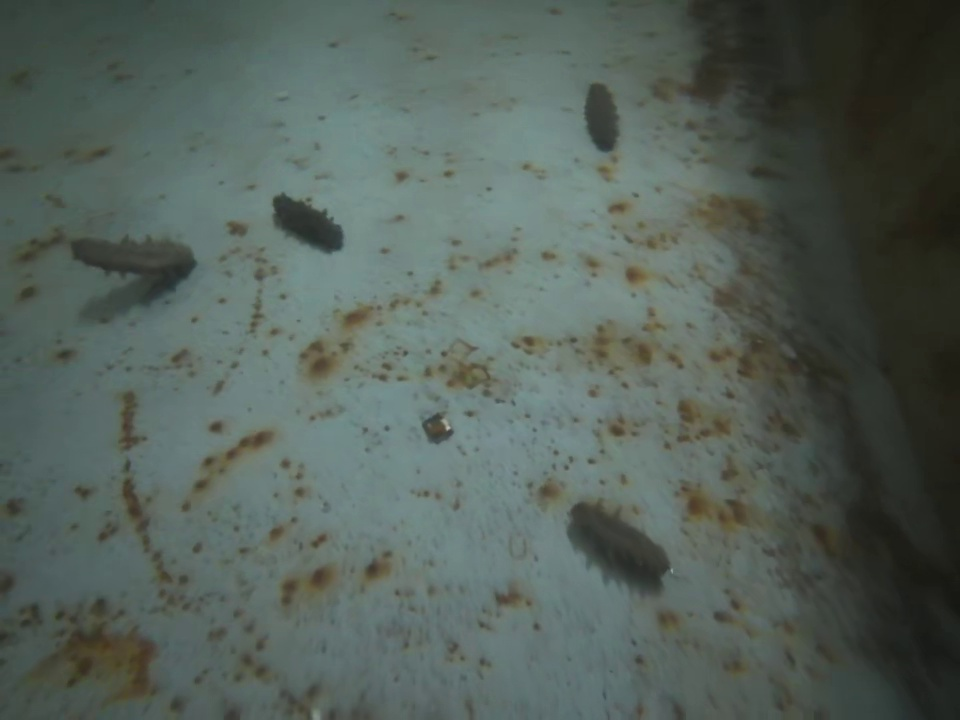seacucumber: (571, 498, 673, 588), (70, 234, 201, 282), (270, 192, 348, 251), (585, 81, 619, 152)
